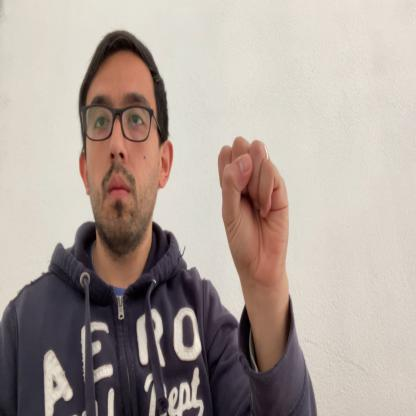S: (218, 136, 290, 278)
